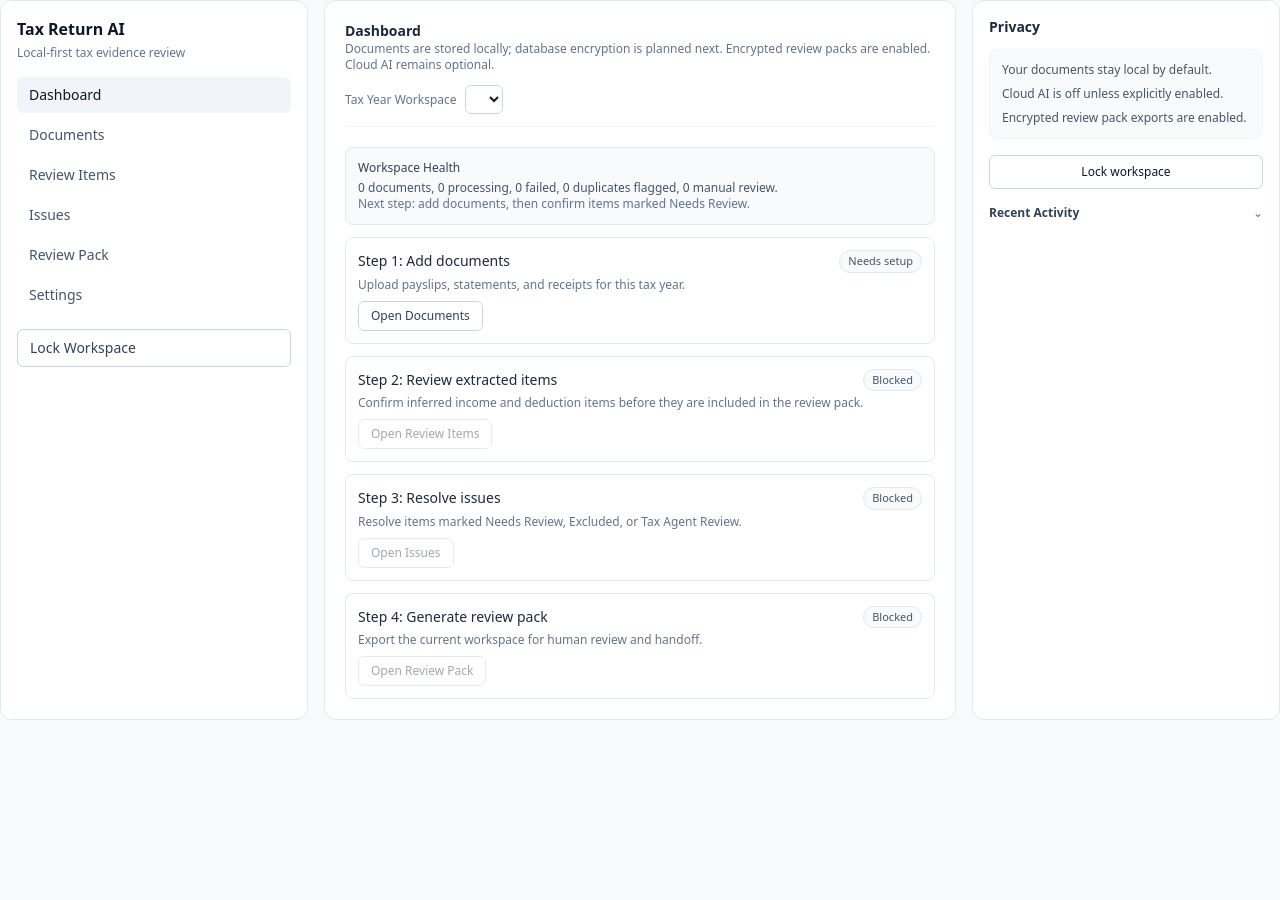
it: WorkspaceApp API-backed states › renders security status in settings panel
The image size is (1280, 900).
Click the button "Settings" at (56, 294), box [17,277,291,313]
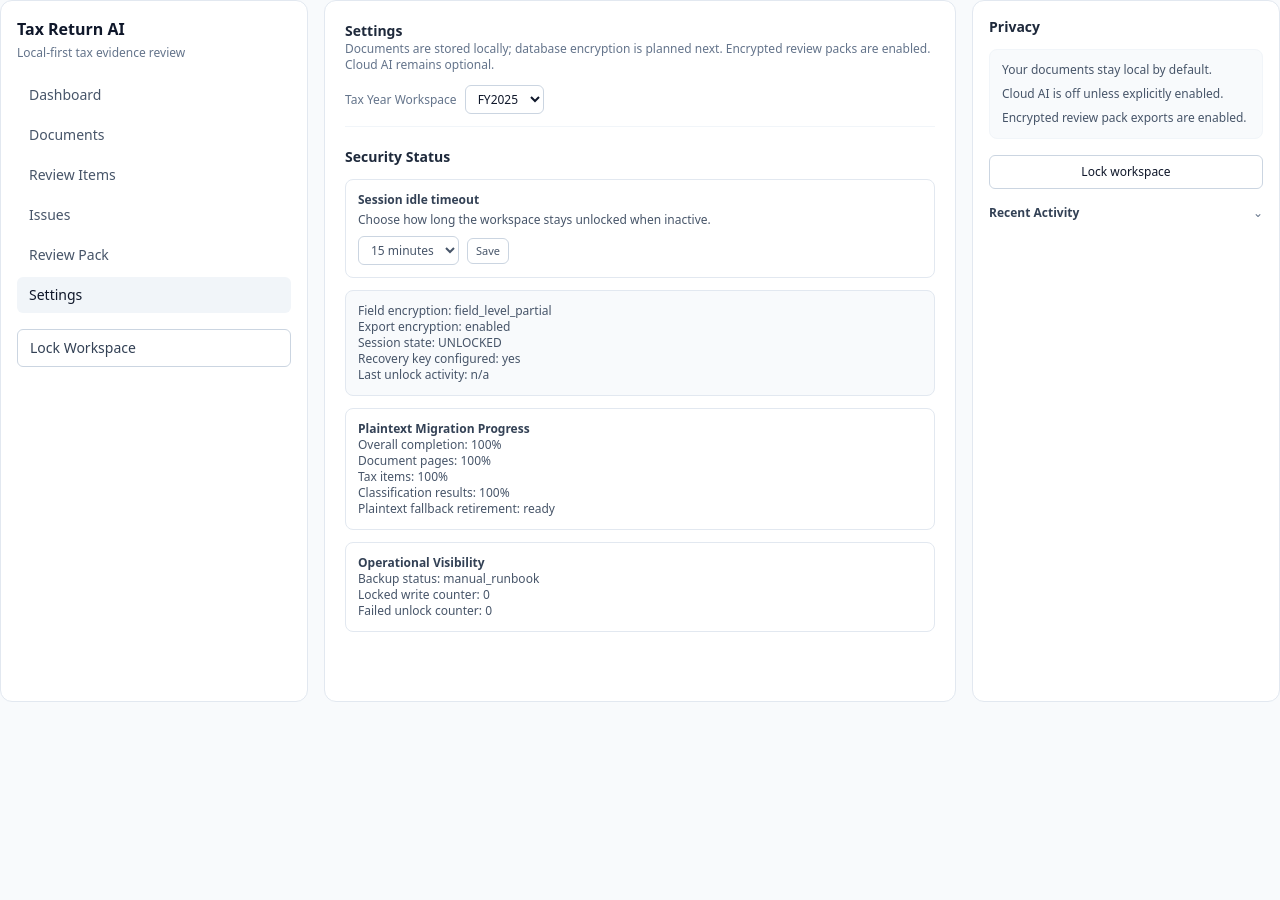
Expected: the element with test id "security-settings-panel" is shown, [345,147,935,632]
Expected: the text "Plaintext Migration Progress" is shown, [358,420,530,437]
